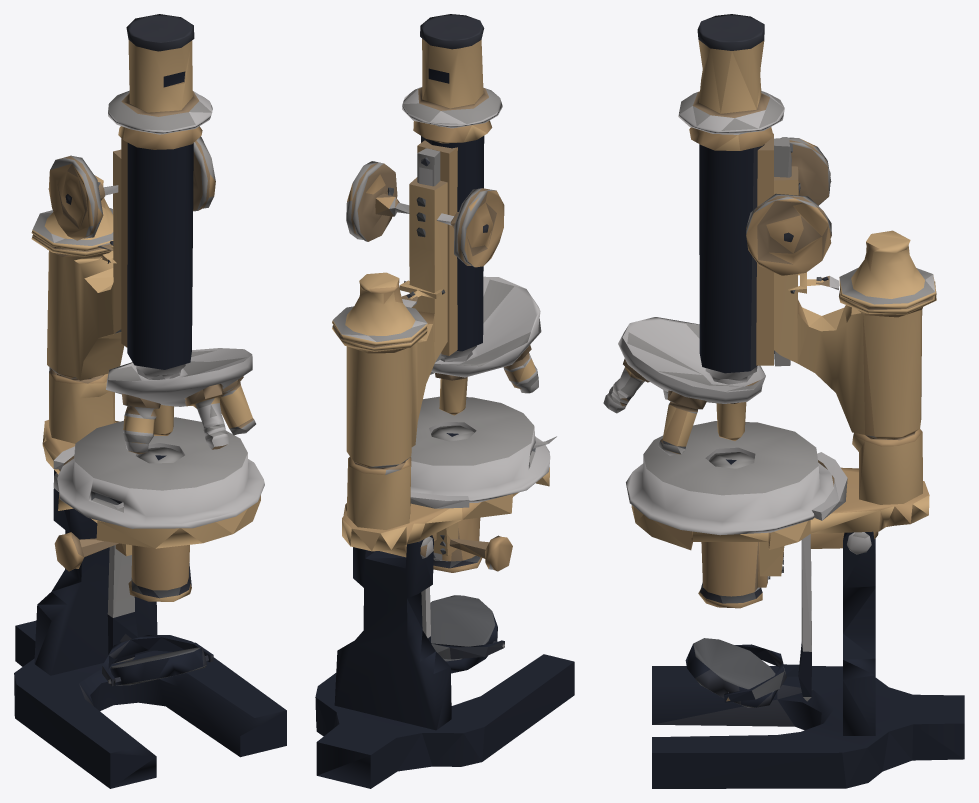
File: vintage-microscope.glb
The picture shows the model from 3 angles, left to right: view 1: azimuth 30°, elevation 25°; view 2: azimuth 150°, elevation 25°; view 3: azimuth 270°, elevation 25°; orthographic projection. The views are drawn at different scales.
Visible parts, largest first — view 1: vintage-microscope; view 2: vintage-microscope; view 3: vintage-microscope.
Part boxes in pixels (x1,y1,x2,y2): vintage-microscope: (14,14,286,788); vintage-microscope: (315,14,574,788); vintage-microscope: (603,14,964,788).
Bounding box in the file's own units: 0.1057 × 0.3995 × 0.1822.
